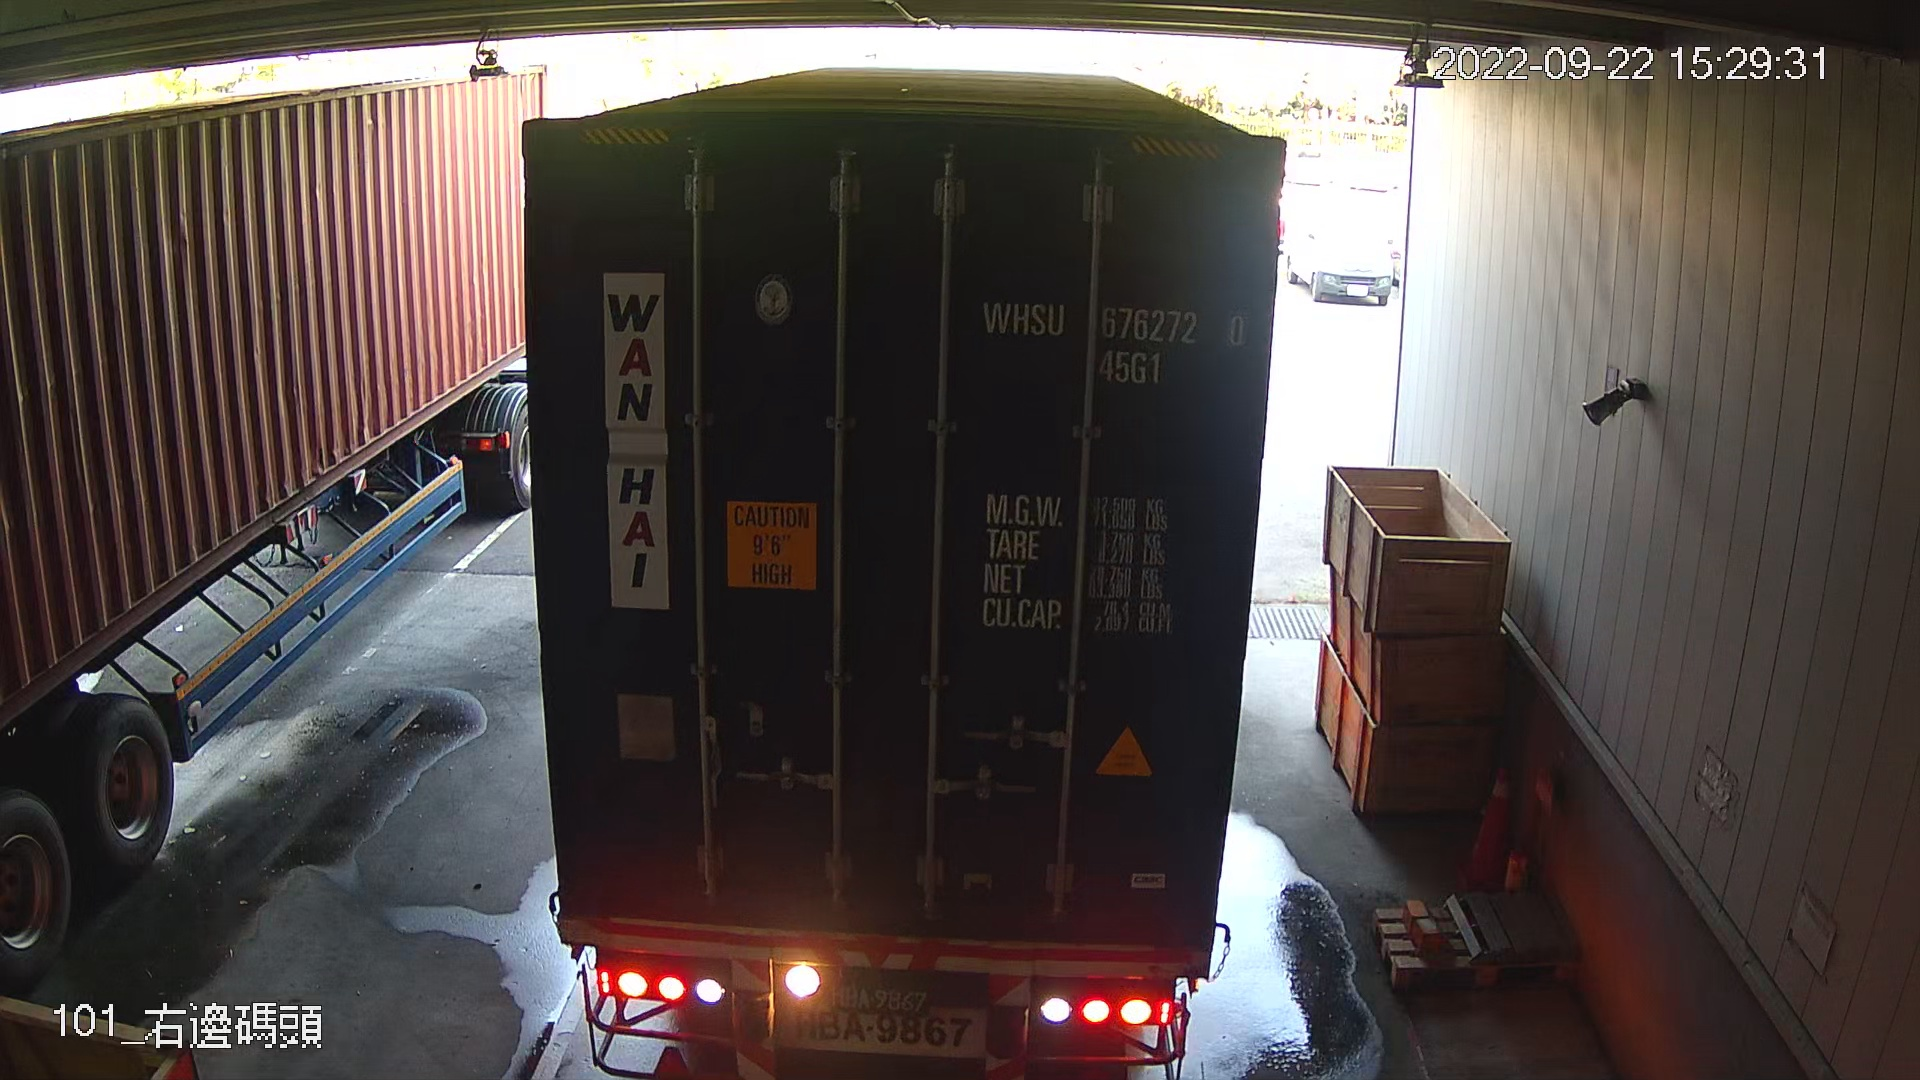container: (963, 284, 1257, 392)
